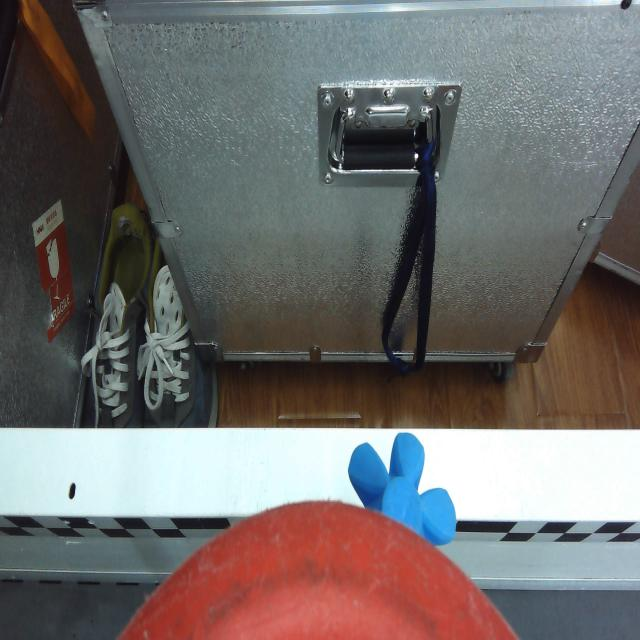zblue-Stake-Head: (348, 430, 458, 548)
